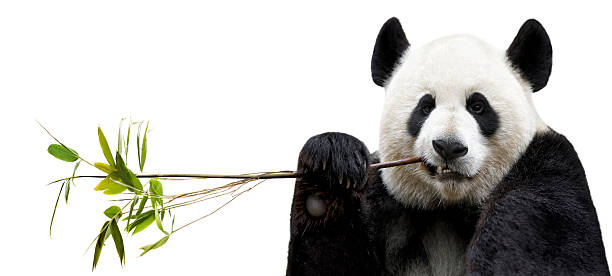panda: (358, 15, 586, 243)
